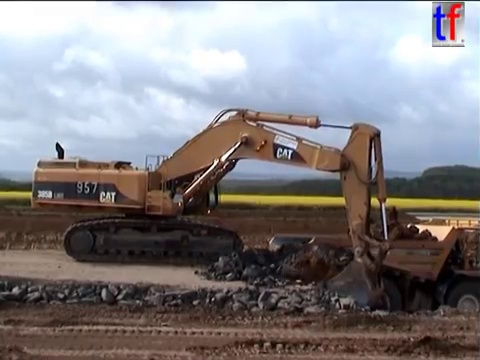excavator: (27, 104, 396, 316)
truck: (264, 213, 480, 334)
